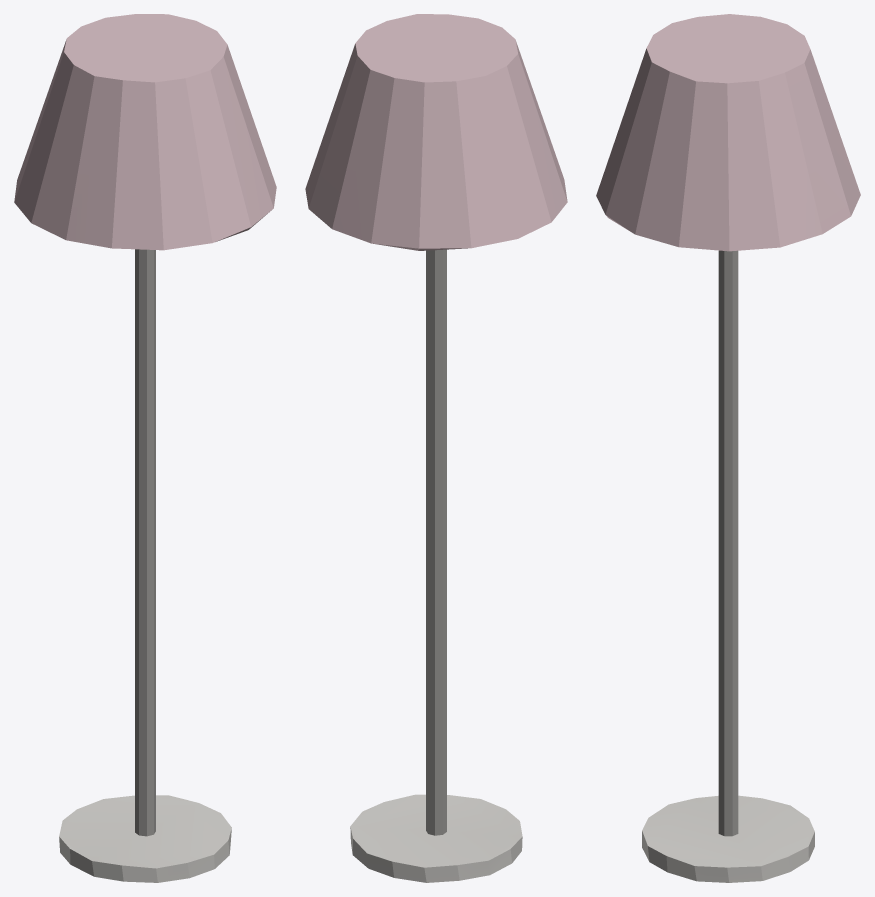
Rendered from furn_floor_lamp__pink_low.glb.
3 renders of one model, left to right at view 1: azimuth 30°, elevation 25°; view 2: azimuth 150°, elevation 25°; view 3: azimuth 270°, elevation 25°, orthographic.
Size of the model in its own units: 0.5122 by 1.71 by 0.5122.
